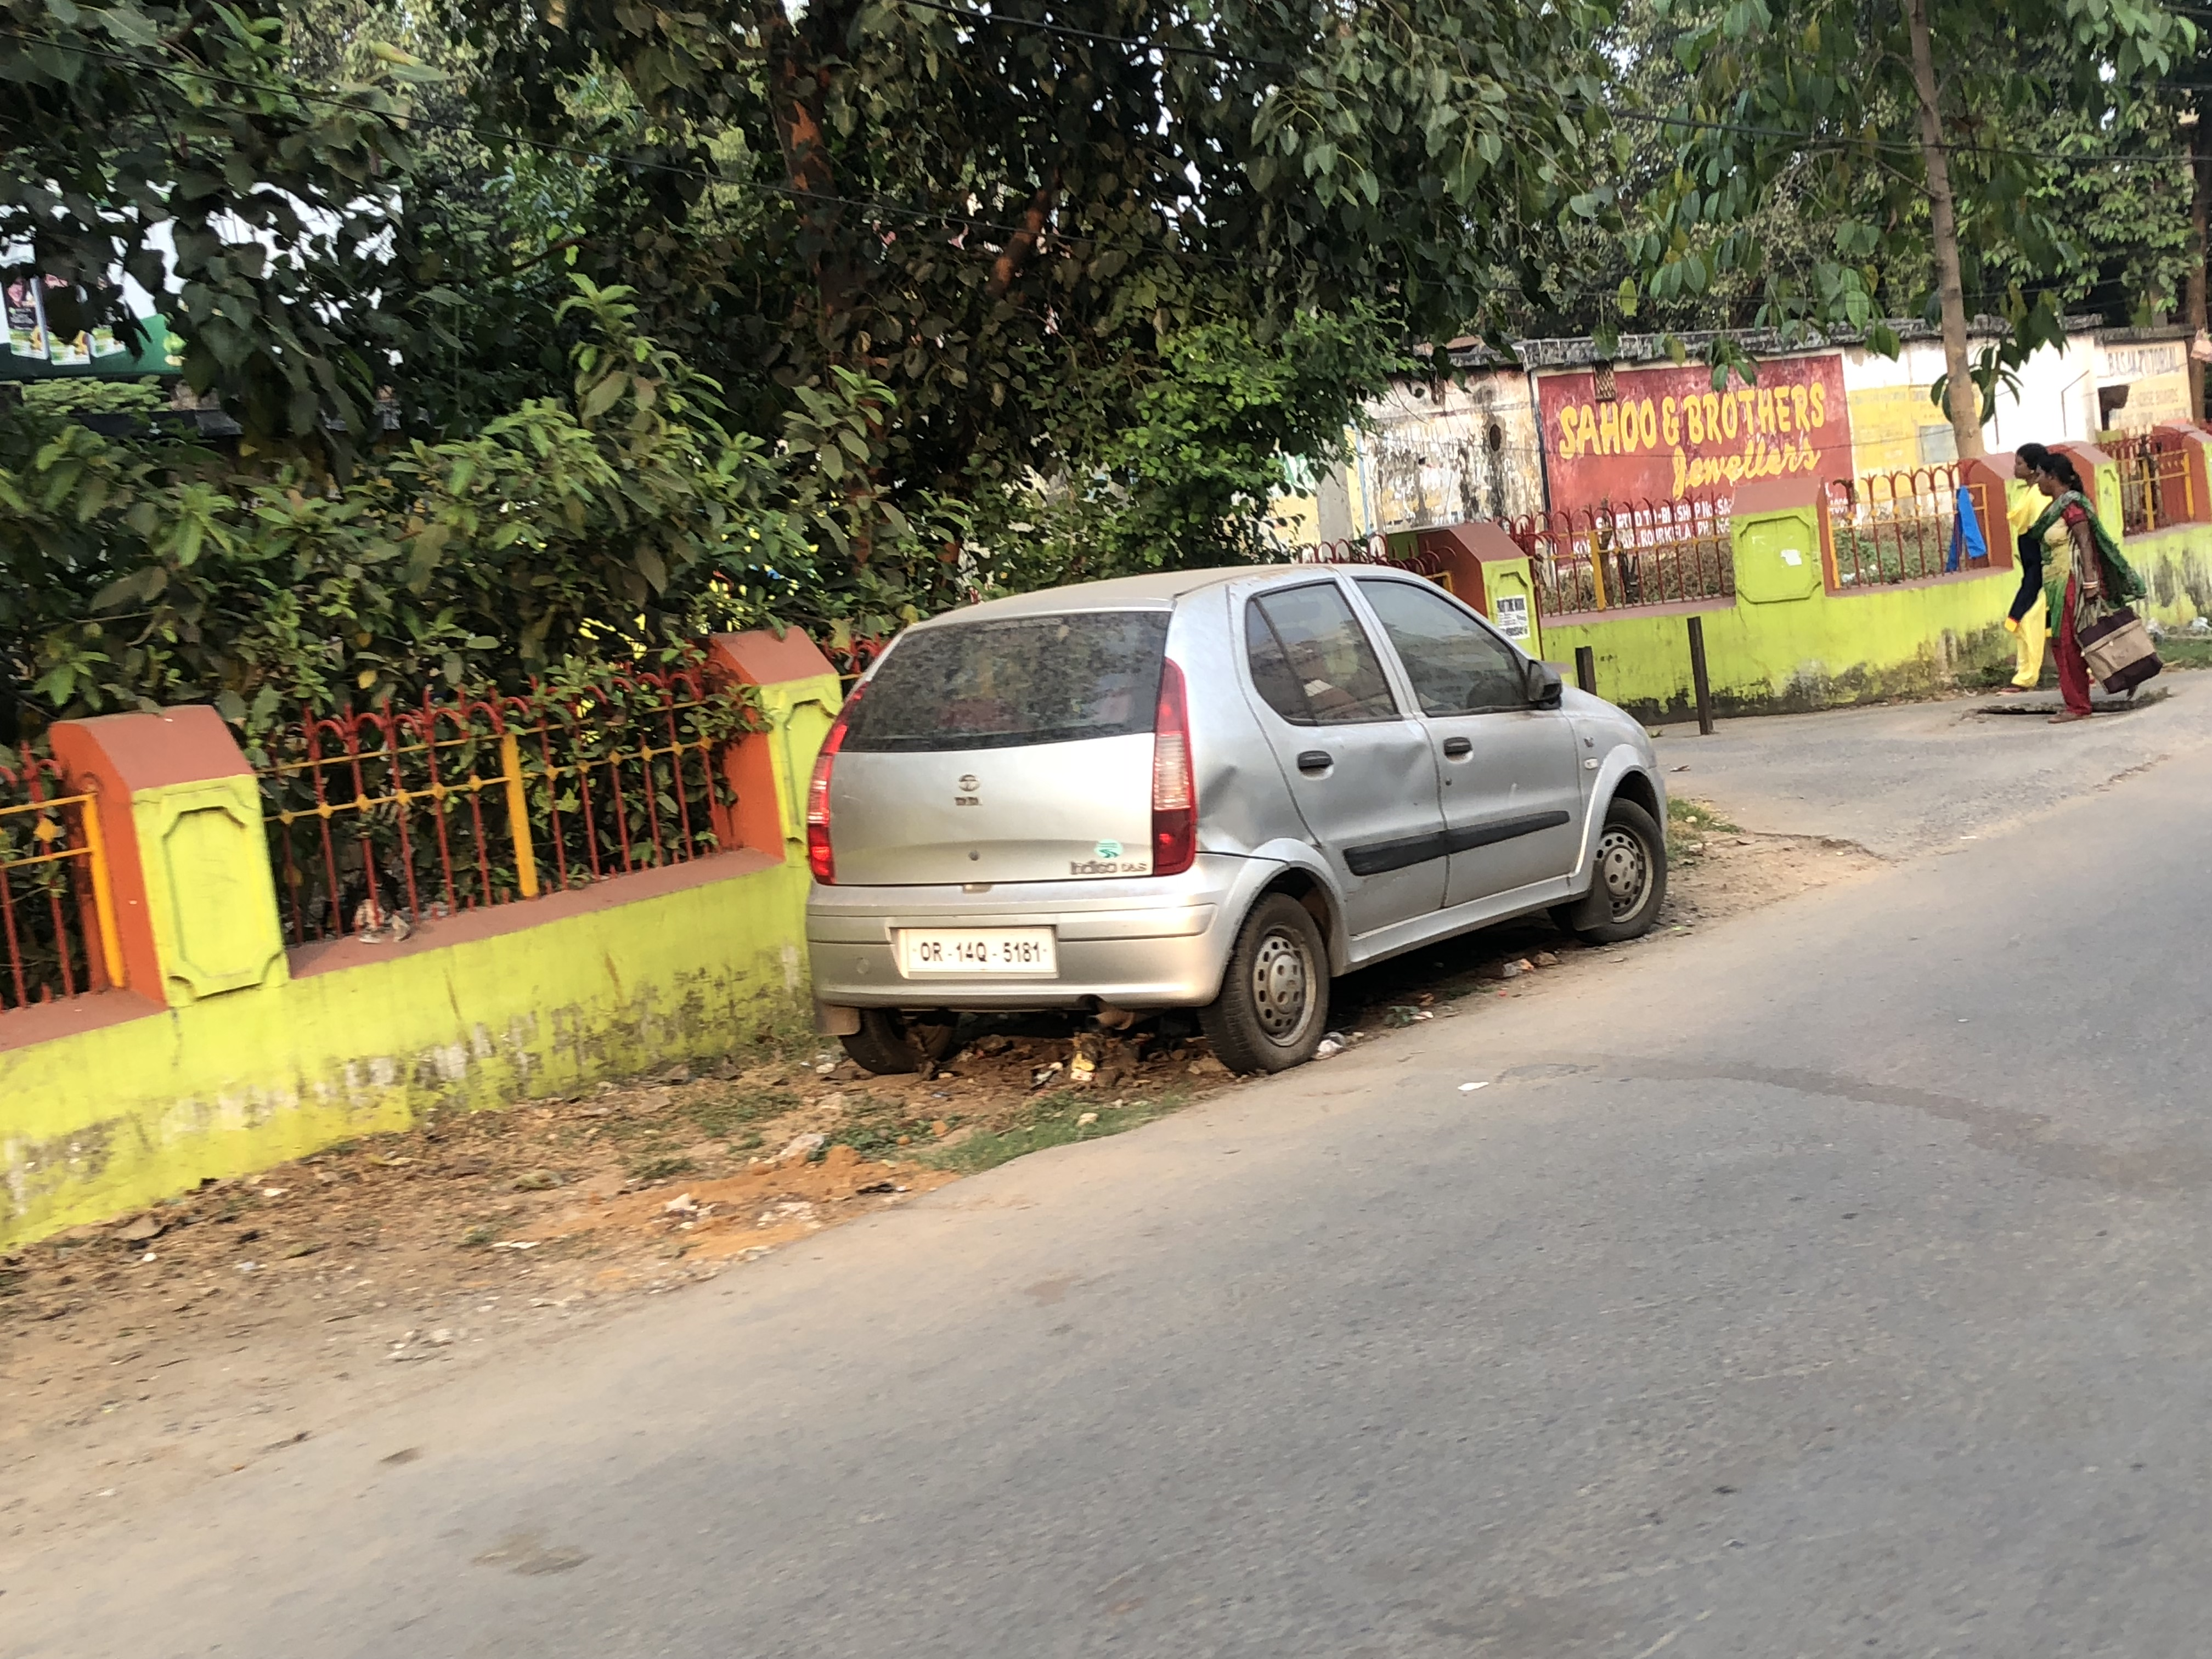licenseplate: (885, 920, 1069, 992)
